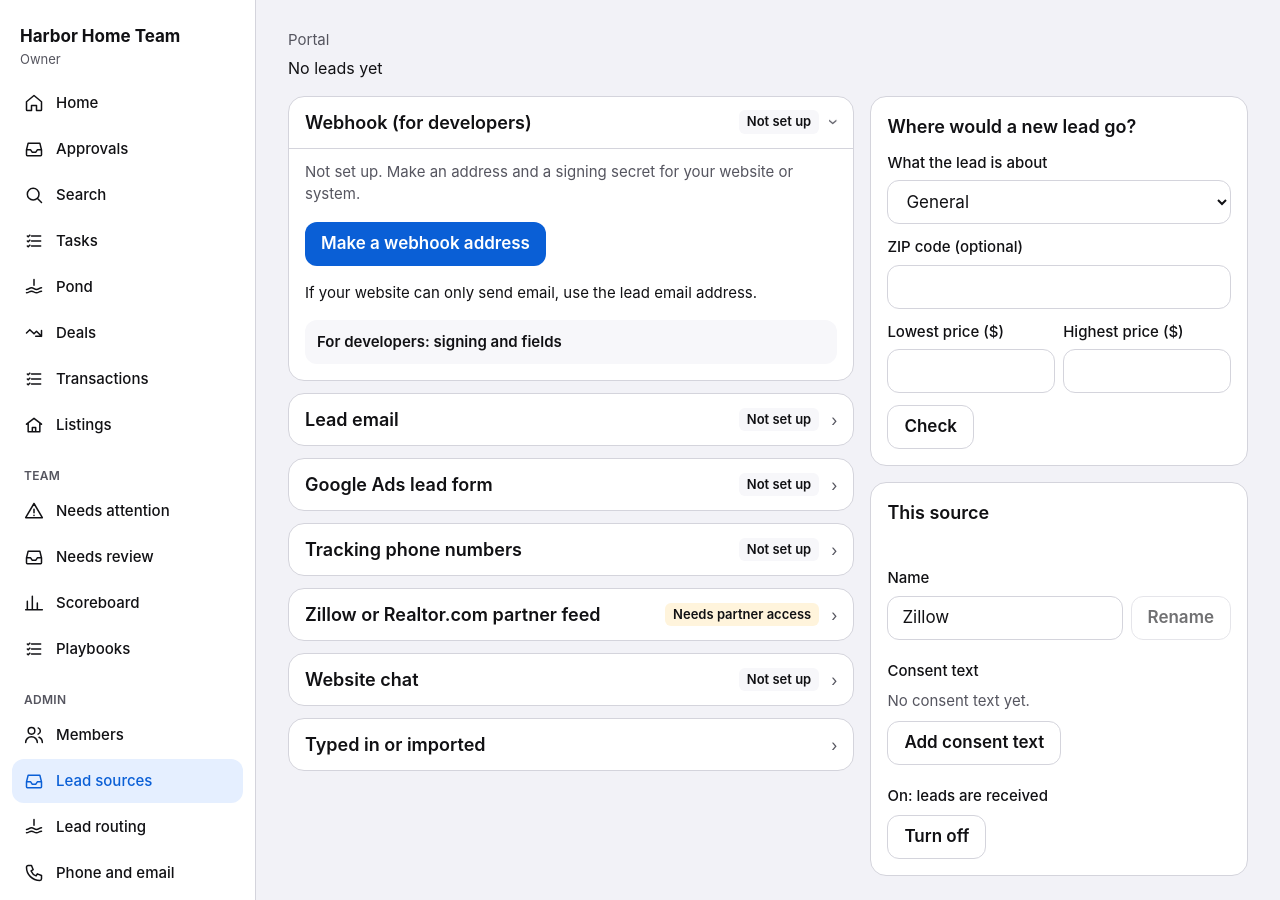
Test case: A lead source: webhook, phone numbers, partner feeds › webhook: the address and signing secret are shown once with copy buttons and the warning; getting a new one asks first
The width and height of the screenshot is (1280, 900).
(page scrolled)
Expected: the text "Not set up. Make an address and a signing secret for your website or system." is shown, [305,160,837,206]
Click the button "Make a webhook address": (426, 244) [305,222,546,266]
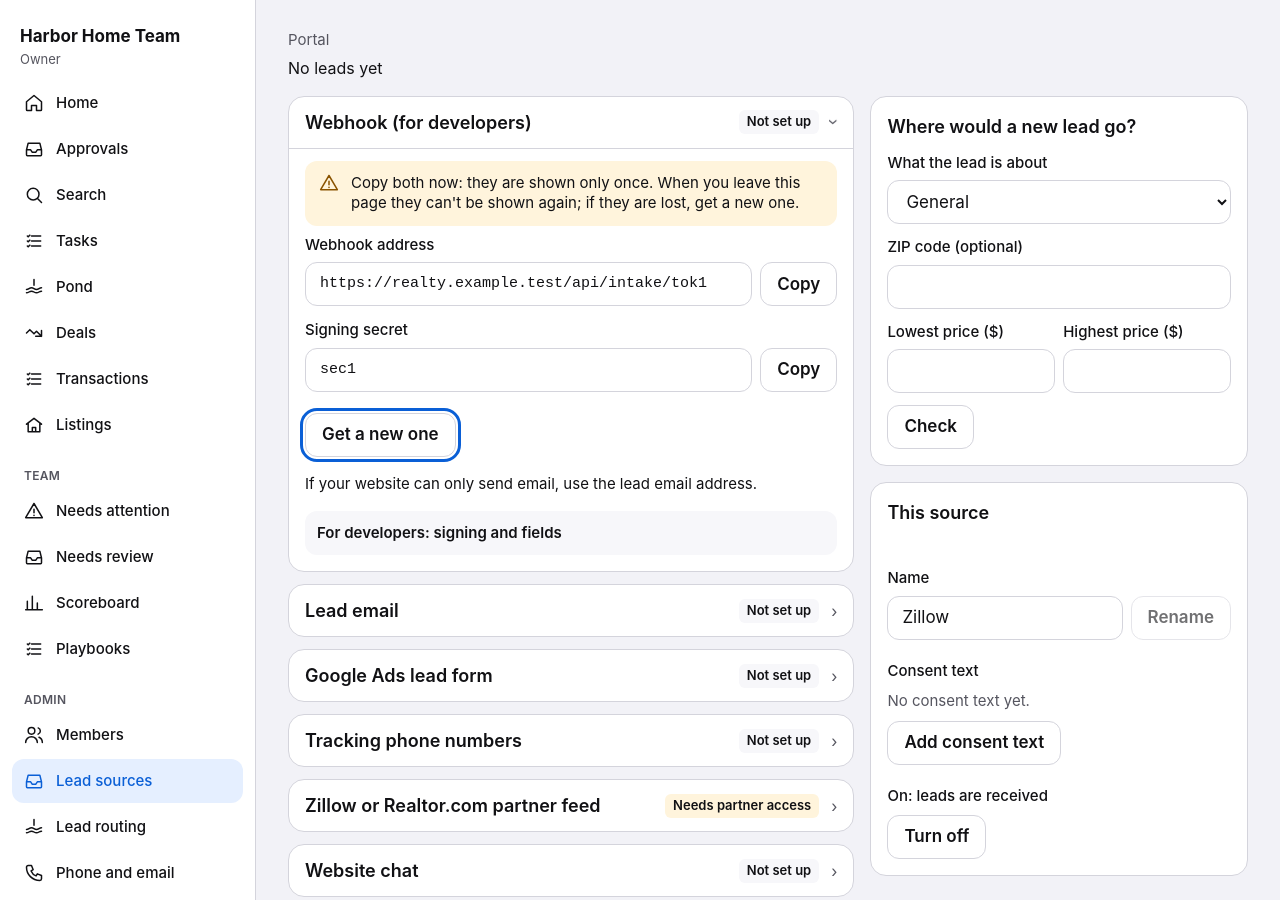
Result: the field labelled "Webhook address" holds "https://realty.example.test/api/intake/tok1" at [305,262,752,306]
Result: the field labelled "Signing secret" holds "sec1" at [305,348,752,392]
Result: the text "Copy both now: they are shown only once. When you leave this page they can't be shown again; if they are lost, get a new" is shown at [351,172,800,212]
Click the button "Get a new one": (380, 435) [305,413,456,457]
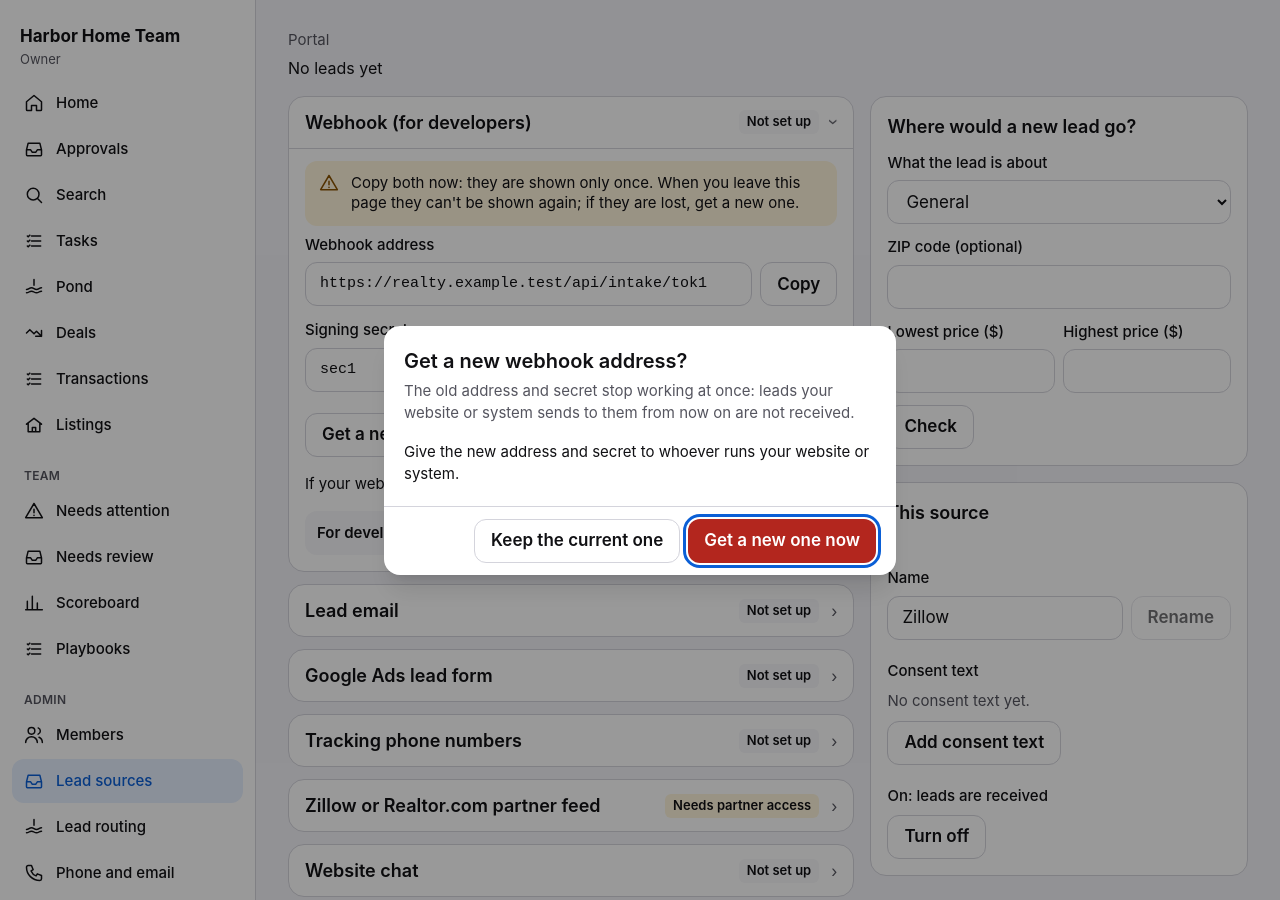
Click the button "Keep the current one": (577, 540) [474,518,680,562]
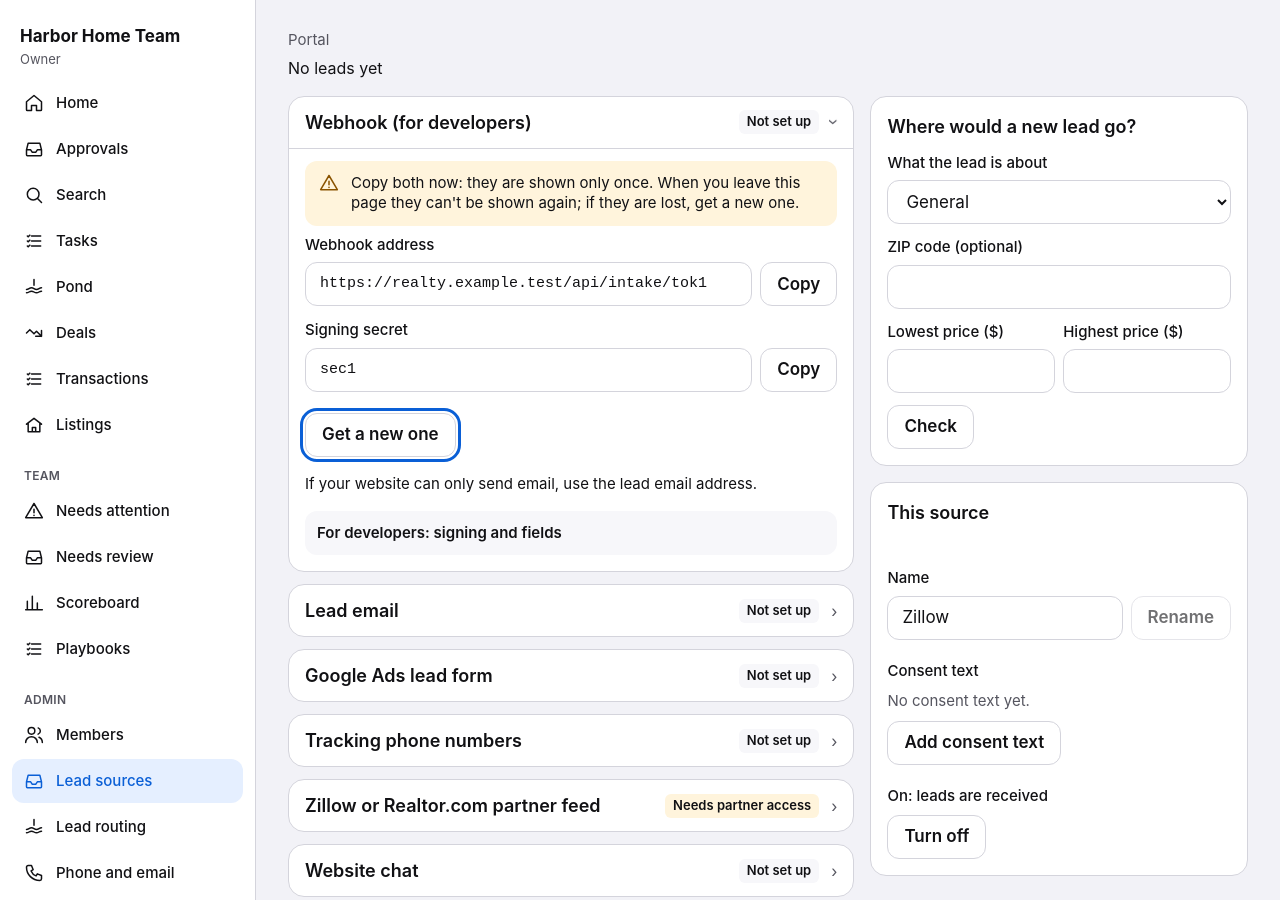
Click the button "Get a new one": (380, 435) [305,413,456,457]
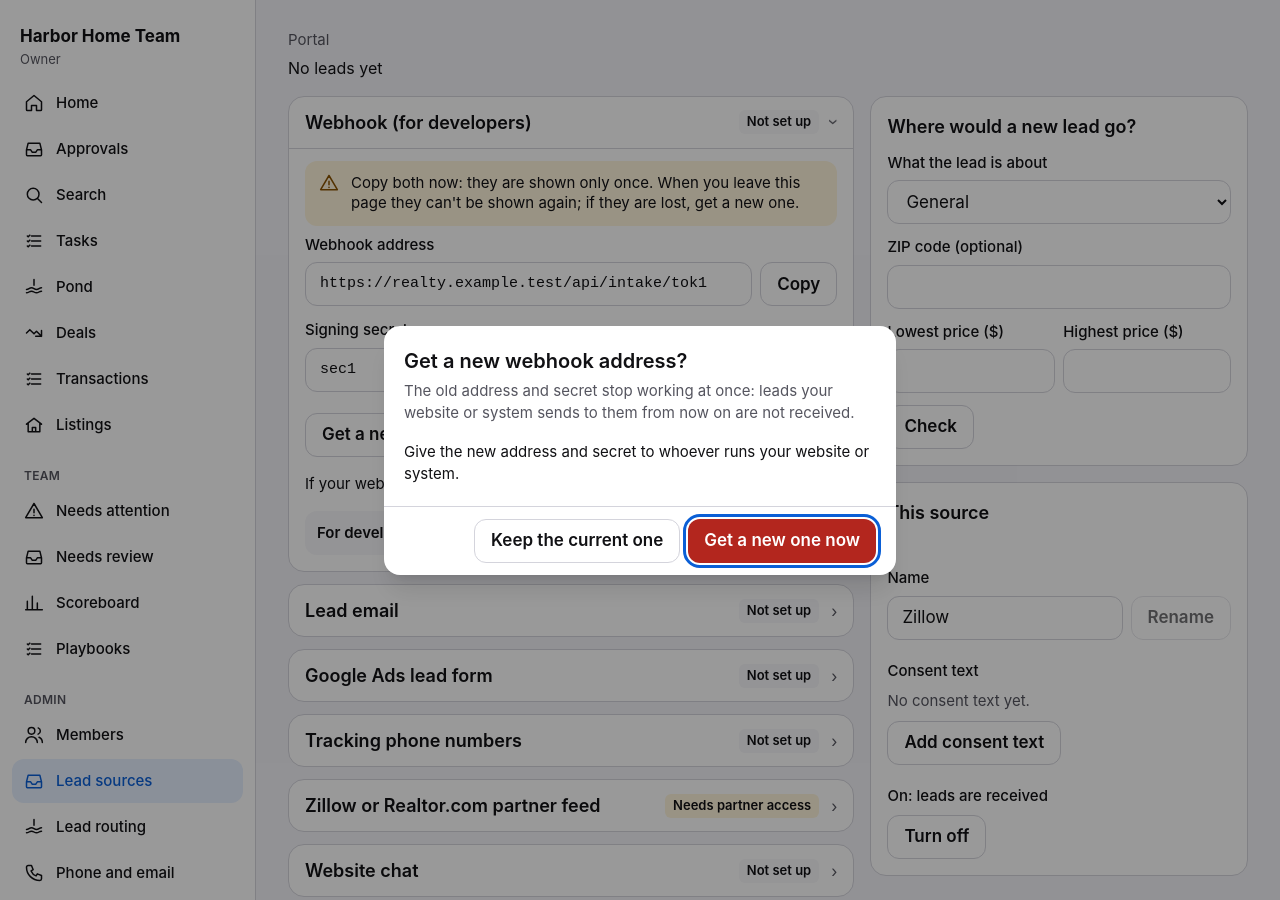
Click the button "Get a new one now": (782, 540) [688,518,876,562]
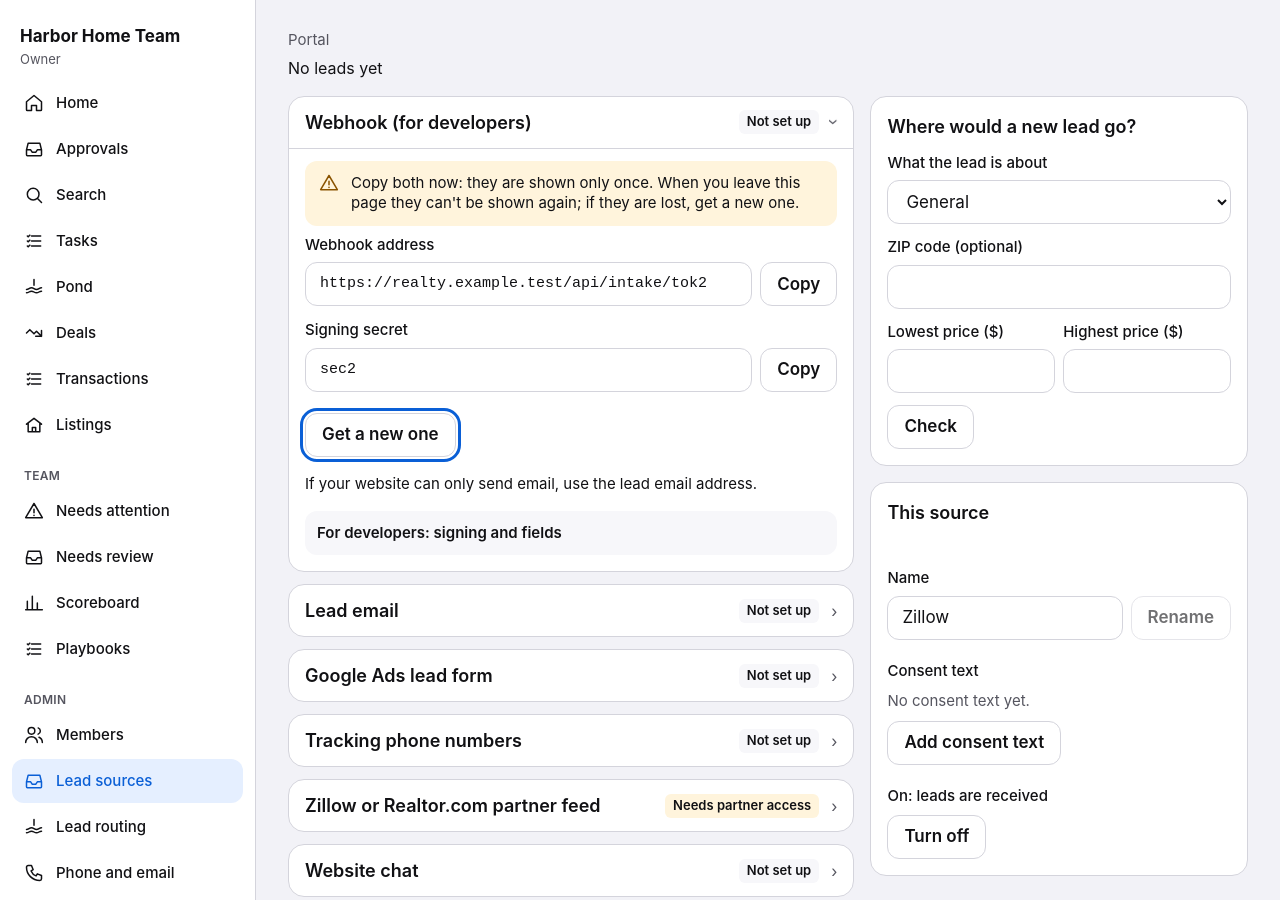
Result: the field labelled "Signing secret" holds "sec2" at [305,348,752,392]
